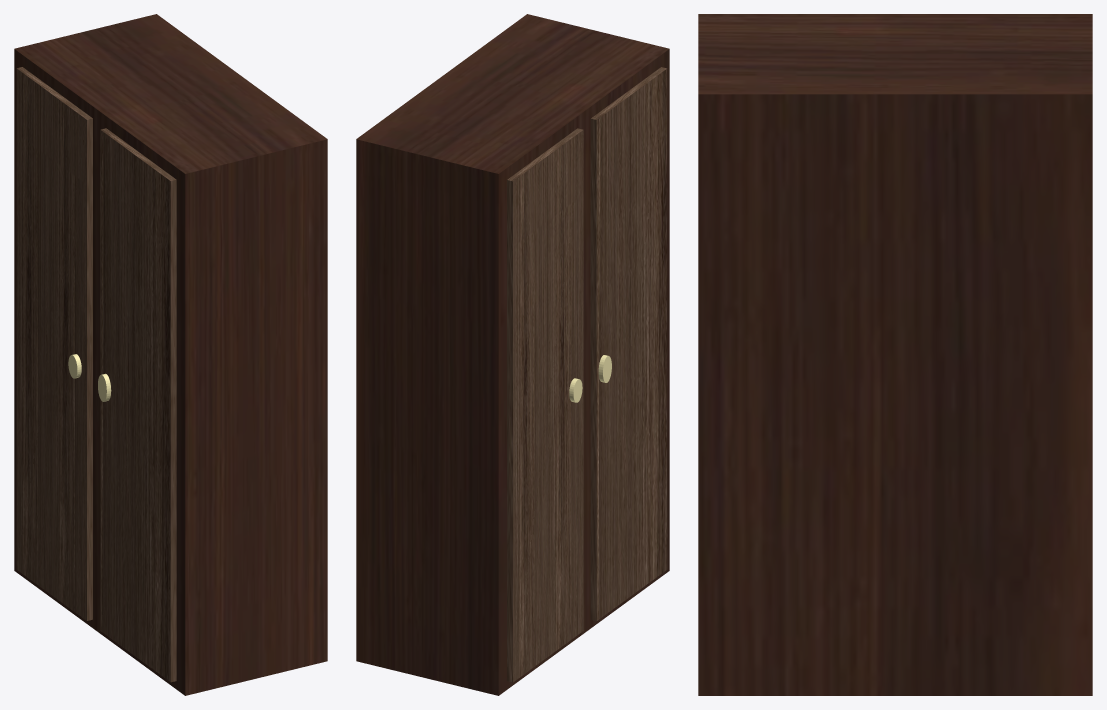
The model's file is Storage.fbx.
3 renders of one model, left to right at view 1: azimuth 30°, elevation 25°; view 2: azimuth 150°, elevation 25°; view 3: azimuth 270°, elevation 25°, orthographic. The views are drawn at different scales.
Parts seen in each view (by area): view 1: Cube; view 2: Cube; view 3: Cube.
Boxes of the visible parts, <box> form: Cube: <box>14,14,327,695</box>; Cube: <box>356,14,669,695</box>; Cube: <box>698,14,1092,695</box>.
Size of the model in its own units: 215 by 700 by 416.
